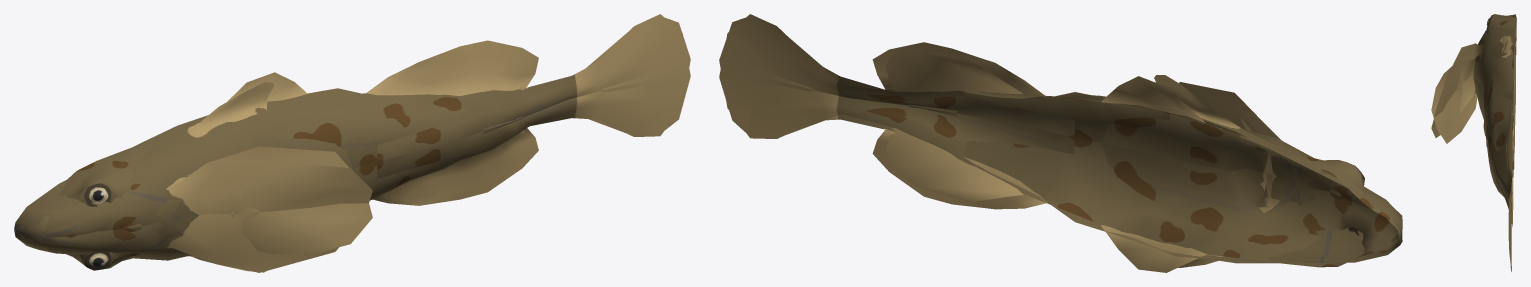
The model's file is deepwaterSculpin_final.fbx.
3 views of the same model, side by side, from view 1: azimuth 30°, elevation 25°; view 2: azimuth 150°, elevation 25°; view 3: azimuth 270°, elevation 25° (orthographic). The views are drawn at different scales.
Parts seen in each view (by area): view 1: sculpin_final; view 2: sculpin_final; view 3: sculpin_final.
Part boxes in pixels (left/top/right/bottom): sculpin_final: left=14, top=14, right=690, bottom=272; sculpin_final: left=719, top=14, right=1402, bottom=272; sculpin_final: left=1431, top=14, right=1516, bottom=271.
Bounding box in the file's own units: 0.2767 × 0.0748 × 0.0456.
